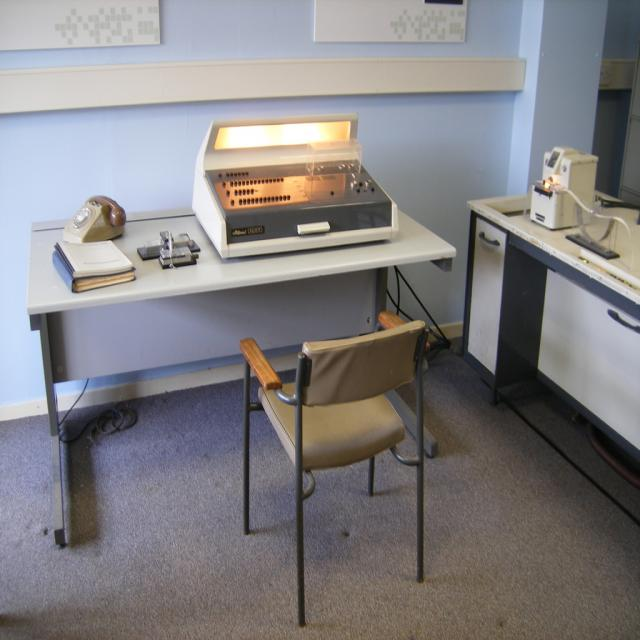chair: (238, 315, 431, 625)
desk: (26, 205, 456, 547)
